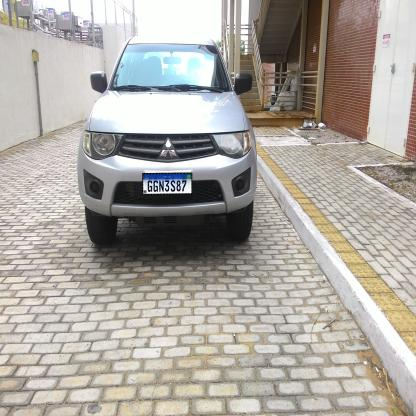PlacaM: (142, 173, 192, 195)
